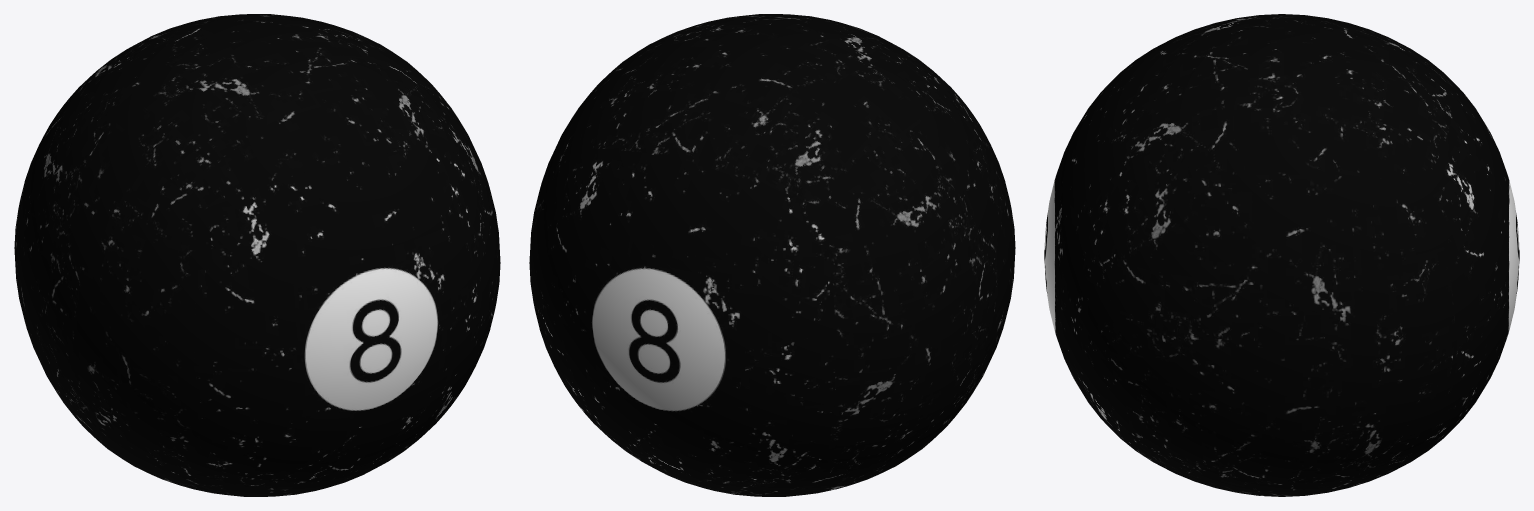
Rendered from eight_ball-transformed.glb.
3 views of the same model, side by side, from view 1: azimuth 30°, elevation 25°; view 2: azimuth 150°, elevation 25°; view 3: azimuth 270°, elevation 25° (orthographic).
Parts seen in each view (by area): view 1: Billard_Ball_lambert1_0, Billard_Ball_Front_Side_0; view 2: Billard_Ball_lambert1_0, Billard_Ball_Back_Side_0; view 3: Billard_Ball_lambert1_0, Billard_Ball_Front_Side_0, Billard_Ball_Back_Side_0.
Boxes of the visible parts, x1=… form: Billard_Ball_lambert1_0: x1=14, y1=14, x2=500, y2=496; Billard_Ball_Front_Side_0: x1=194, y1=148, x2=493, y2=481; Billard_Ball_lambert1_0: x1=529, y1=14, x2=1015, y2=496; Billard_Ball_Back_Side_0: x1=536, y1=148, x2=835, y2=481; Billard_Ball_lambert1_0: x1=1109, y1=14, x2=1454, y2=496; Billard_Ball_Front_Side_0: x1=1044, y1=78, x2=1140, y2=443; Billard_Ball_Back_Side_0: x1=1423, y1=78, x2=1519, y2=443.
Bounding box in the file's own units: 4.43 × 4.43 × 4.43.
Materials: 3 (3 with a texture image).
